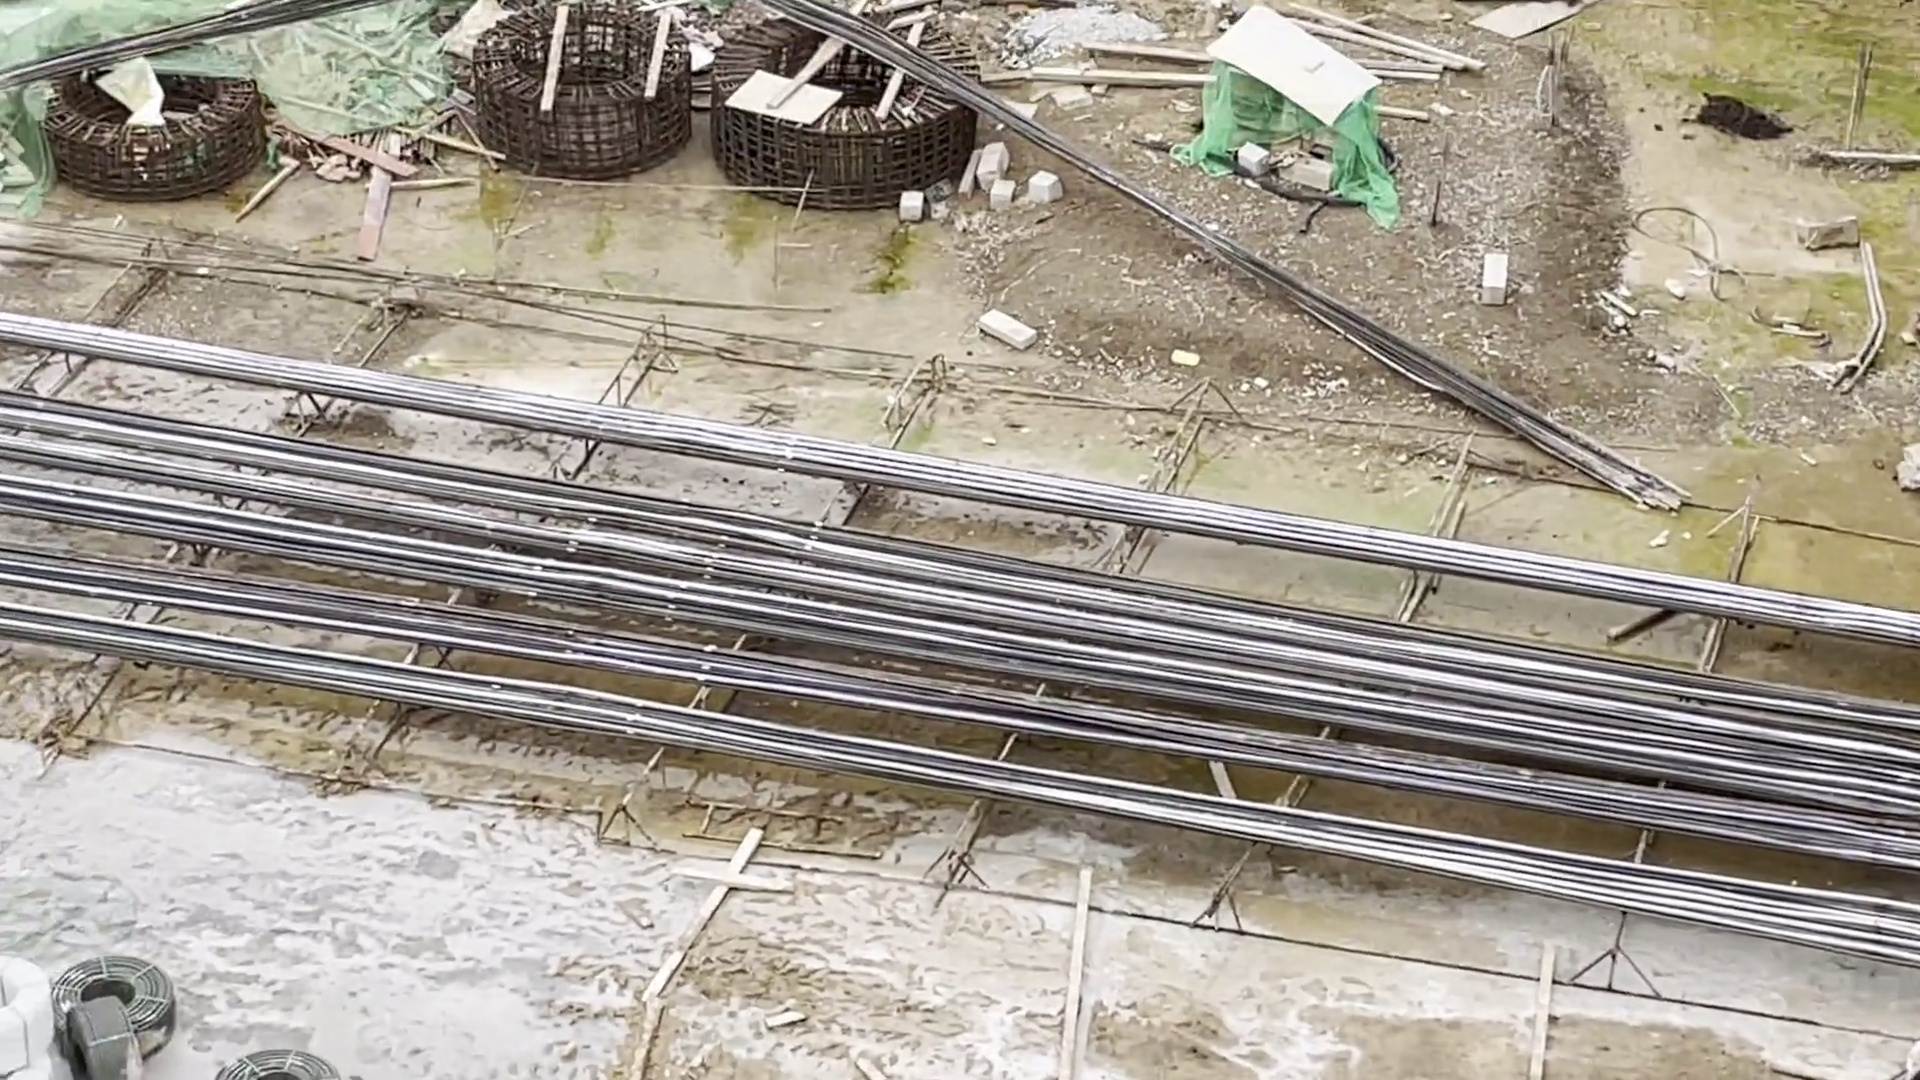rebar: (632, 485, 1920, 961), (7, 389, 943, 717)
